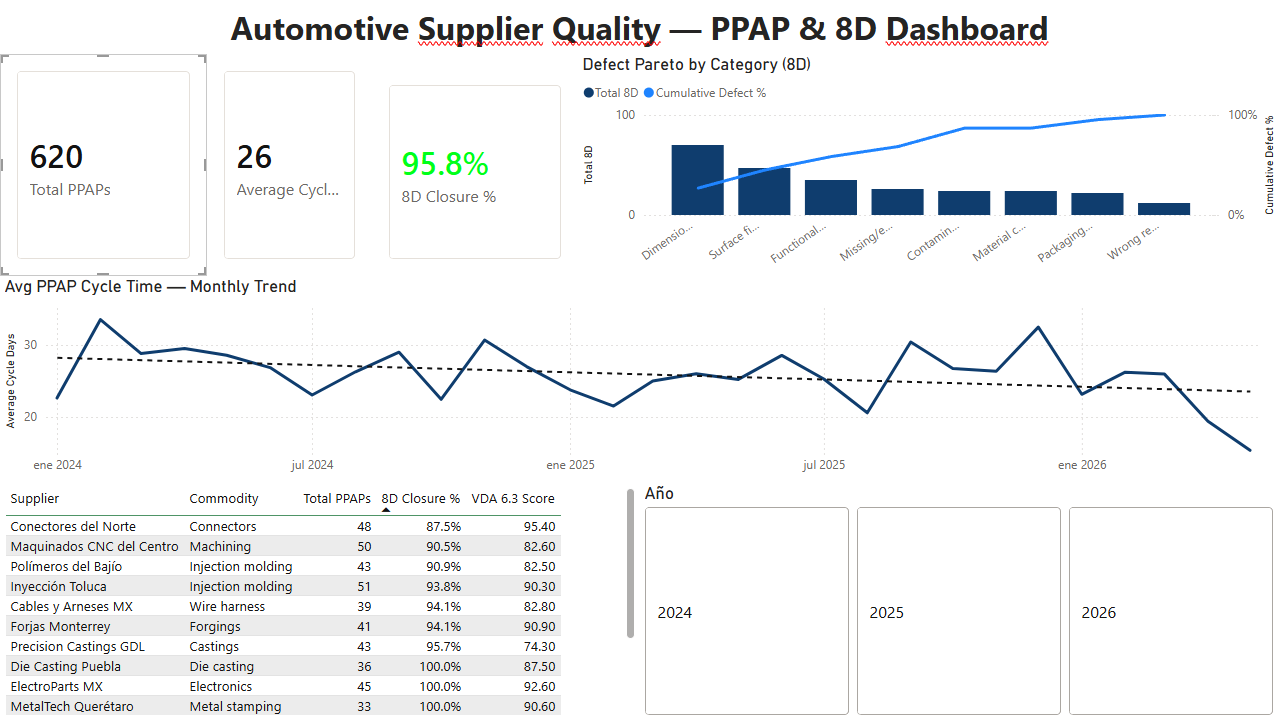

The page's visual inventory and layout, read from the dashboard file:
{"tool":"powerbi","page":{"name":"Dashboard","canvas":[1280,720],"ordinal":0},"visuals":[{"type":"cardVisual","fields":{"Data":["ppap_requests.Total PPAPs"]},"box":[0,54,207,222],"z":0},{"type":"cardVisual","fields":{"Data":["ppap_requests.Días Ciclo Prom"]},"box":[207,54,165,222],"z":1},{"type":"cardVisual","fields":{"Data":["quality_issues.% Cierre 8D"]},"box":[372,68,206,208],"z":2},{"type":"lineClusteredColumnComboChart","title":"Defect Pareto by Category (8D)","fields":{"Category":["quality_issues.defect_category"],"Y":["quality_issues.Total 8D"],"Y2":["quality_issues.% Acumulado Defectos"]},"box":[578,54,702,222],"z":3},{"type":"lineChart","title":"Avg PPAP Cycle Time — Monthly Trend","fields":{"Y":["ppap_requests.avrg_Cycle Days"],"Category":["ppap_requests.Submission Date.Variación.Jerarquía de fechas.Año","ppap_requests.Submission Date.Variación.Jerarquía de fechas.Mes"]},"box":[0,276,1280,207],"z":4},{"type":"tableEx","fields":{"Values":["suppliers.supplier_name","suppliers.commodity","ppap_requests.Total PPAPs","quality_issues.8D Closure %","select","Sum(suppliers.vda63_score)"]},"box":[0,483.3,640,236.7],"z":5},{"type":"advancedSlicerVisual","fields":{"Values":["ppap_requests.Submission Date.Variación.Jerarquía de fechas.Año"]},"box":[640,483.3,640,236.7],"z":6},{"type":"textbox","box":[0,0,1280,54],"z":7}]}

Visuals, with their boxes in screenshot pixels (x1, y1, x2, y2), scaled from the page's 1280x720 canvas onto the 1280x720 screenshot:
cardVisual - ppap_requests.Total PPAPs: (0,54,207,276)
cardVisual - ppap_requests.Días Ciclo Prom: (207,54,372,276)
cardVisual - quality_issues.% Cierre 8D: (372,68,578,276)
"Defect Pareto by Category (8D)" lineClusteredColumnComboChart: (578,54,1279,276)
"Avg PPAP Cycle Time — Monthly Trend" lineChart: (0,276,1279,483)
tableEx - suppliers.supplier_name x suppliers.commodity: (0,483,640,719)
advancedSlicerVisual - ppap_requests.Submission Date.Variación.Jerarquía de fechas.Año: (640,483,1279,719)
textbox: (0,0,1279,54)
